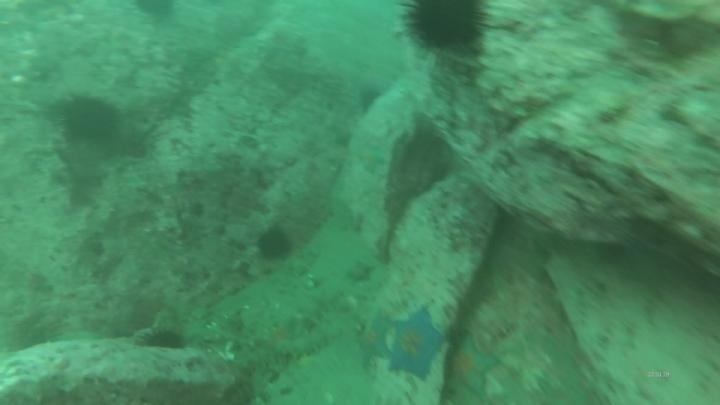echinus: (400, 1, 493, 56), (58, 93, 122, 145), (254, 224, 295, 264), (137, 324, 188, 353), (130, 0, 180, 23), (354, 82, 385, 117)
holothurian: (278, 289, 350, 354), (277, 318, 343, 362)
starfish: (383, 306, 448, 382), (443, 333, 503, 402), (354, 311, 395, 368), (258, 315, 303, 355), (354, 140, 388, 177), (344, 258, 377, 287)
